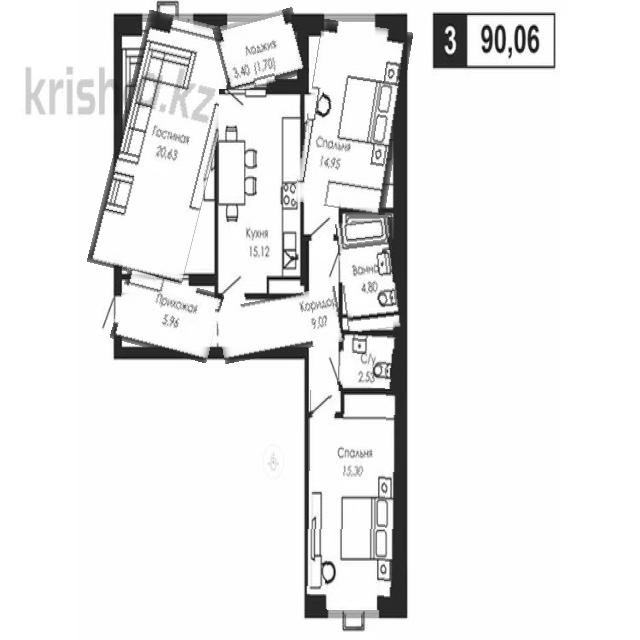balcony: (215, 12, 306, 90)
bathroom: (338, 218, 403, 332), (338, 331, 405, 388)
hallway: (113, 275, 221, 358), (217, 292, 343, 358)
kitchen: (220, 89, 308, 297)
living_room: (102, 14, 230, 282), (307, 391, 406, 610), (301, 21, 407, 212)
